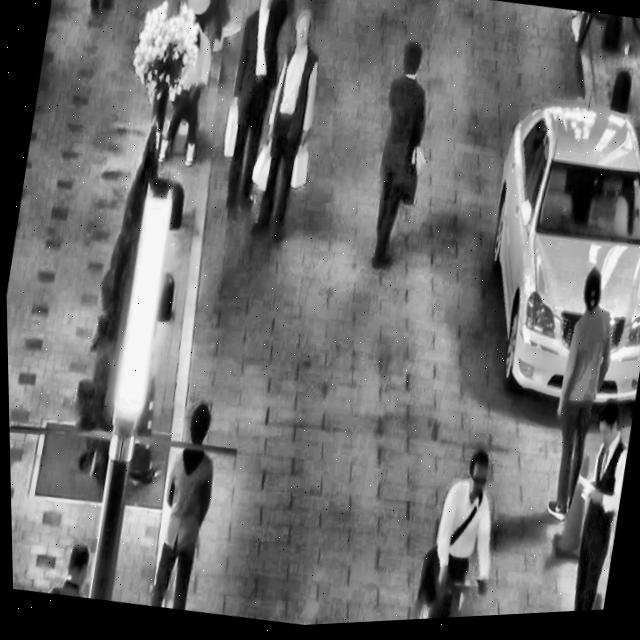light_vehicle: (455, 77, 640, 430)
